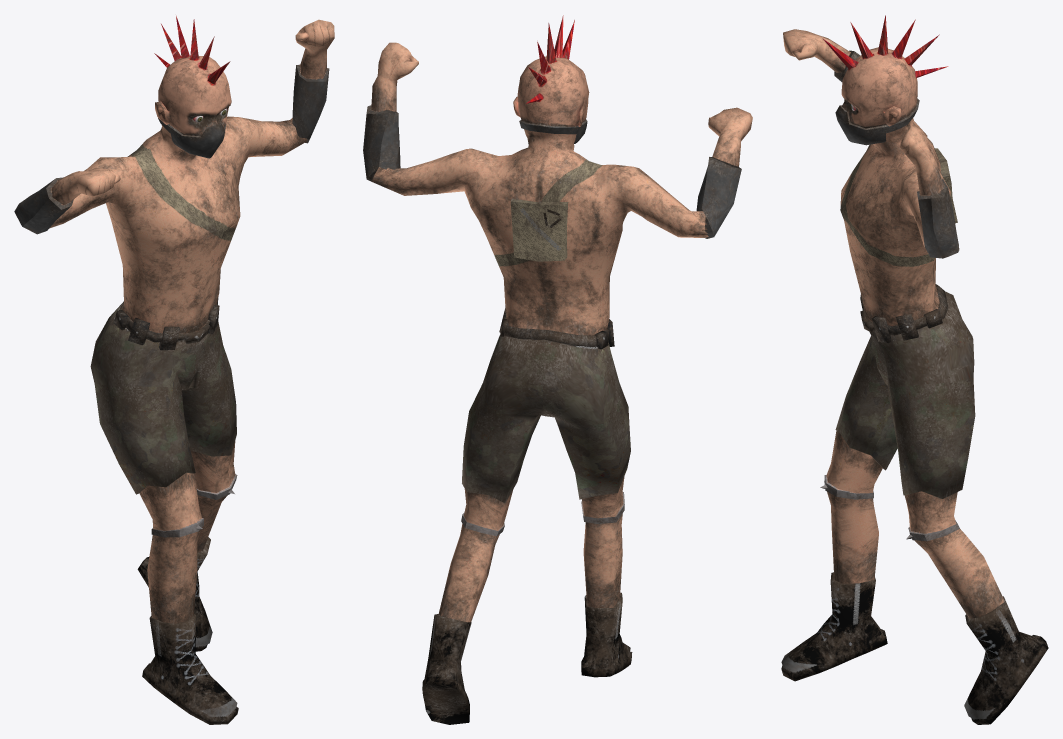
File: Anim_ganar_1_npc2.0036.obj
3 renders of one model, left to right at view 1: azimuth 30°, elevation 25°; view 2: azimuth 150°, elevation 25°; view 3: azimuth 270°, elevation 25°, orthographic.
Visible parts, largest first — view 1: polySurface1; view 2: polySurface1; view 3: polySurface1.
Boxes of the visible parts, bbox=[...] form: polySurface1: bbox=[14, 15, 334, 724]; polySurface1: bbox=[363, 15, 752, 724]; polySurface1: bbox=[781, 15, 1048, 724].
Size of the model in its own units: 5.34 by 10.49 by 3.71.
